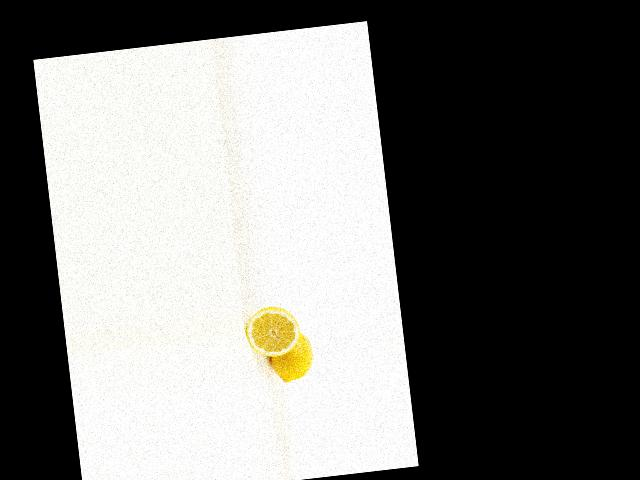lemon: (262, 329, 315, 386)
